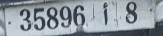3: (17, 8, 33, 32)
5: (33, 6, 45, 33)
6: (73, 4, 86, 28)
8: (45, 5, 59, 31), (124, 2, 138, 24)
9: (58, 4, 73, 30)
a: (100, 1, 112, 26)
